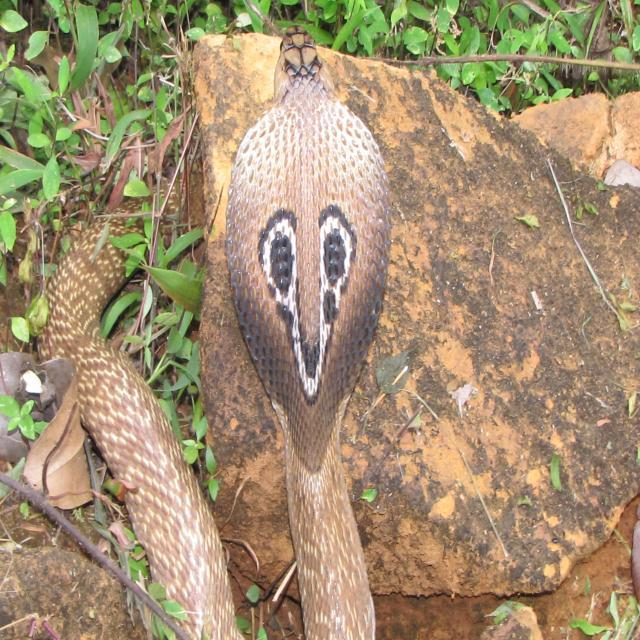Snake: (224, 24, 394, 638), (36, 209, 245, 639)
